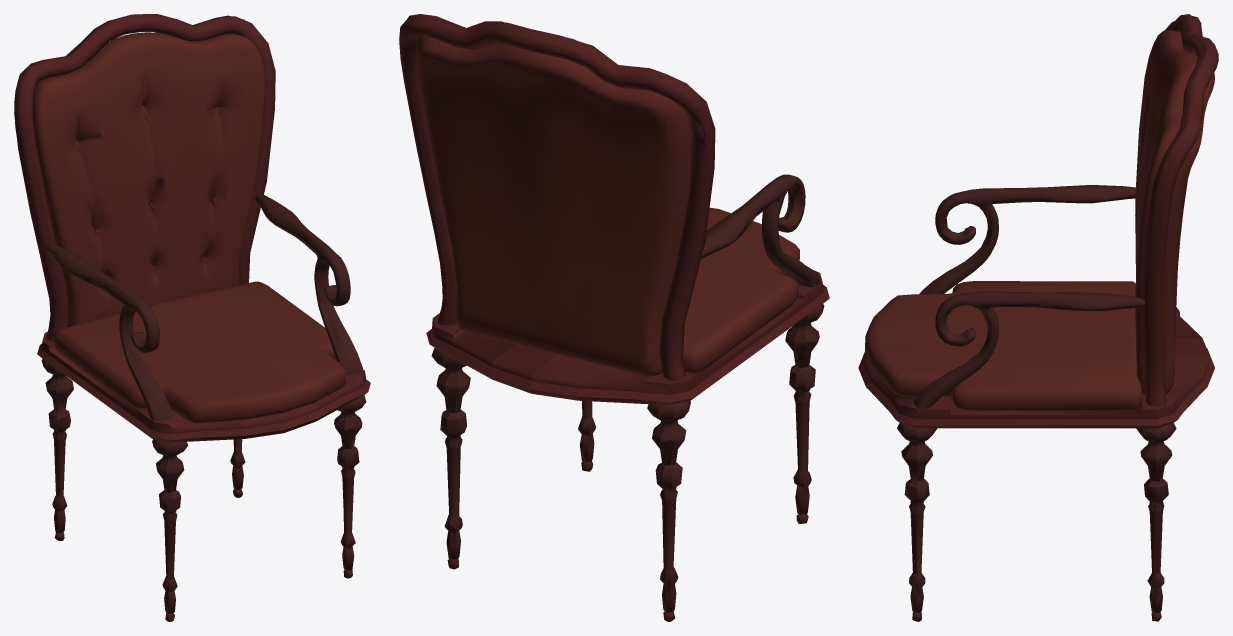
The model's file is sandalyesonN.fbx.
3 renders of one model, left to right at view 1: azimuth 30°, elevation 25°; view 2: azimuth 150°, elevation 25°; view 3: azimuth 270°, elevation 25°, orthographic. The views are drawn at different scales.
Parts seen in each view (by area): view 1: Sandalye; view 2: Sandalye; view 3: Sandalye.
Boxes of the visible parts, <box> form: Sandalye: <box>14,14,370,621</box>; Sandalye: <box>399,14,829,621</box>; Sandalye: <box>858,14,1218,621</box>.
Size of the model in its own units: 240 by 435 by 270.
